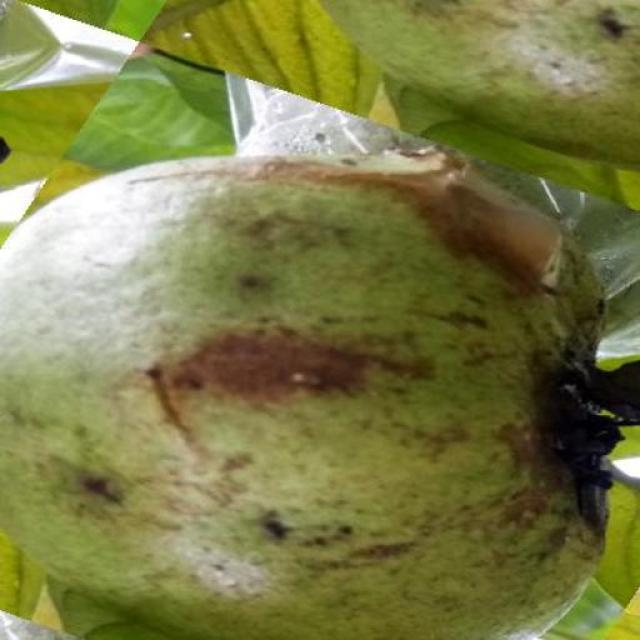Styler_Root: (0, 151, 632, 640)
